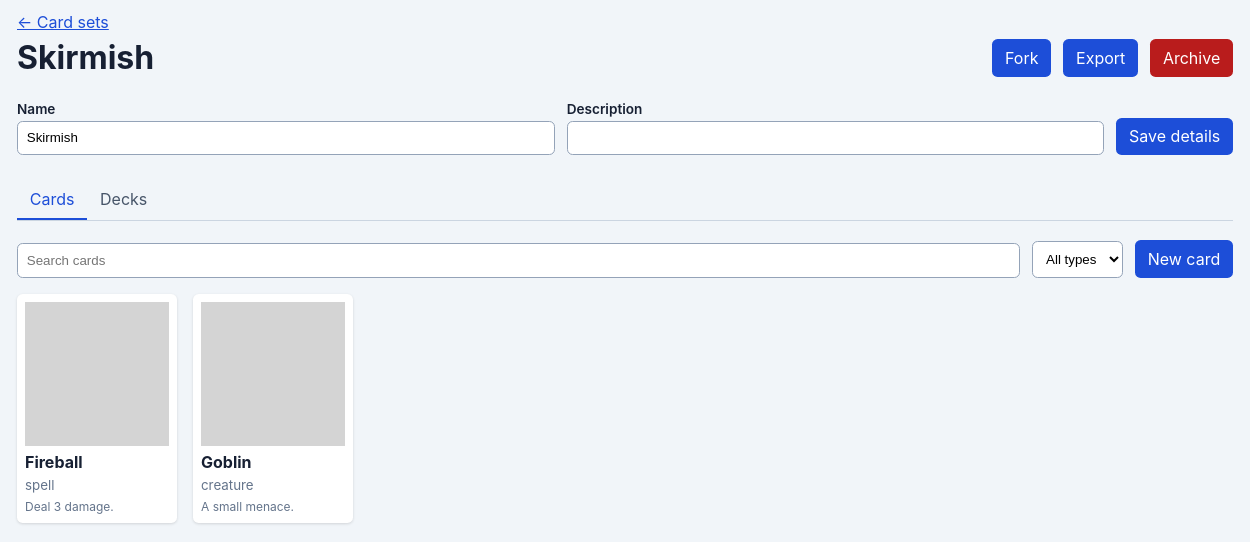
Test: SetScreen › searches cards by text and filters by type
The width and height of the screenshot is (1250, 542).
Type "damage" into the field labelled "Search cards" at (519, 261), box x1=17 y1=243 x2=1020 y2=278
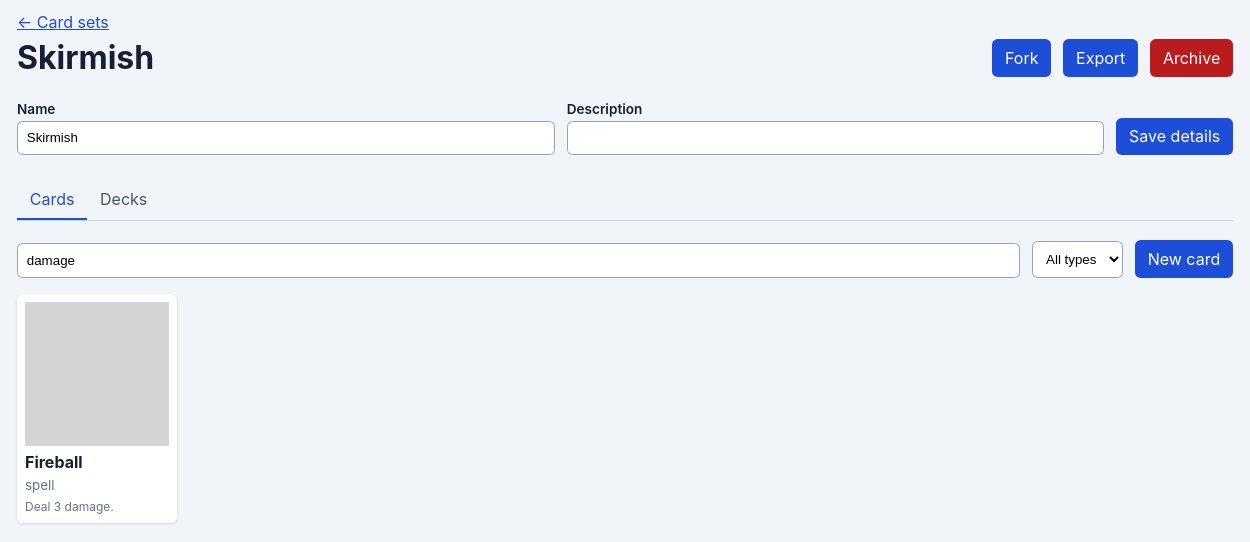
Expected: the text "Fireball" is shown, x1=25 y1=452 x2=83 y2=472
Result: the button "Goblin" is gone
Clear the field named "Search cards" at (519, 261), box x1=17 y1=243 x2=1020 y2=278
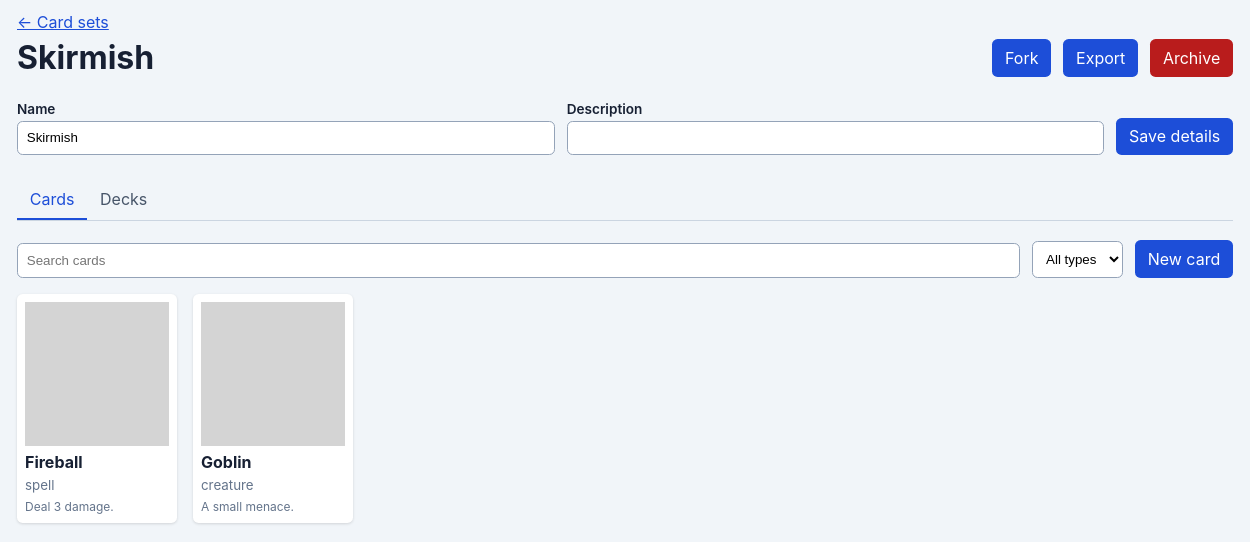
Select "creature" in the dropdown named "Filter cards by type" at (1078, 260), box x1=1032 y1=241 x2=1123 y2=278
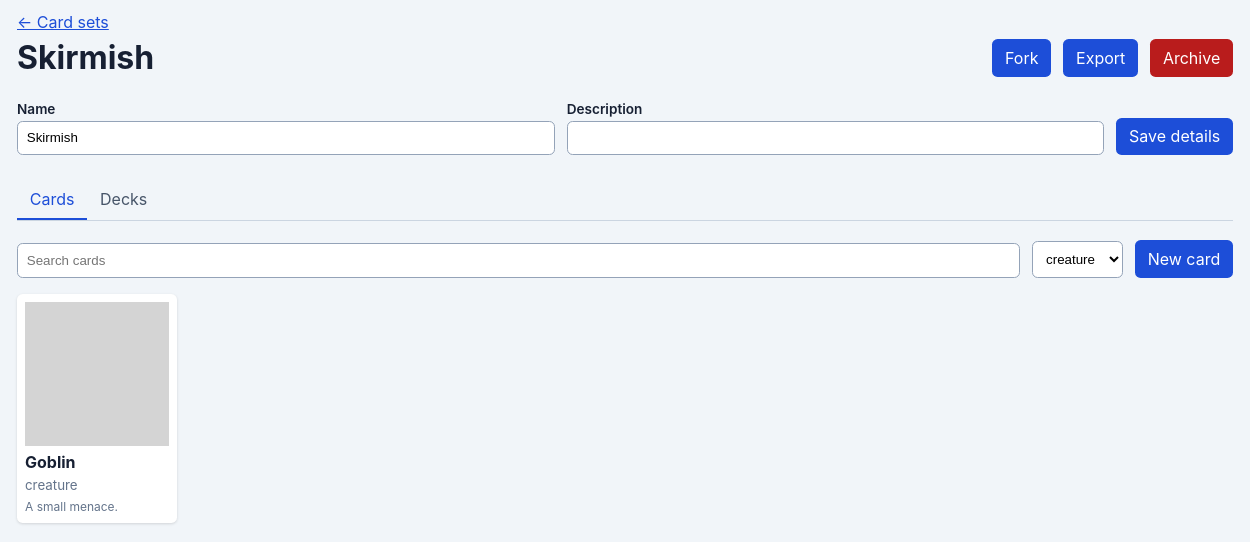
Result: the text "Goblin" is shown at x1=25 y1=452 x2=76 y2=472
Result: the button "Fireball" is gone
